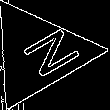N_SW: (3, 23, 75, 84)
